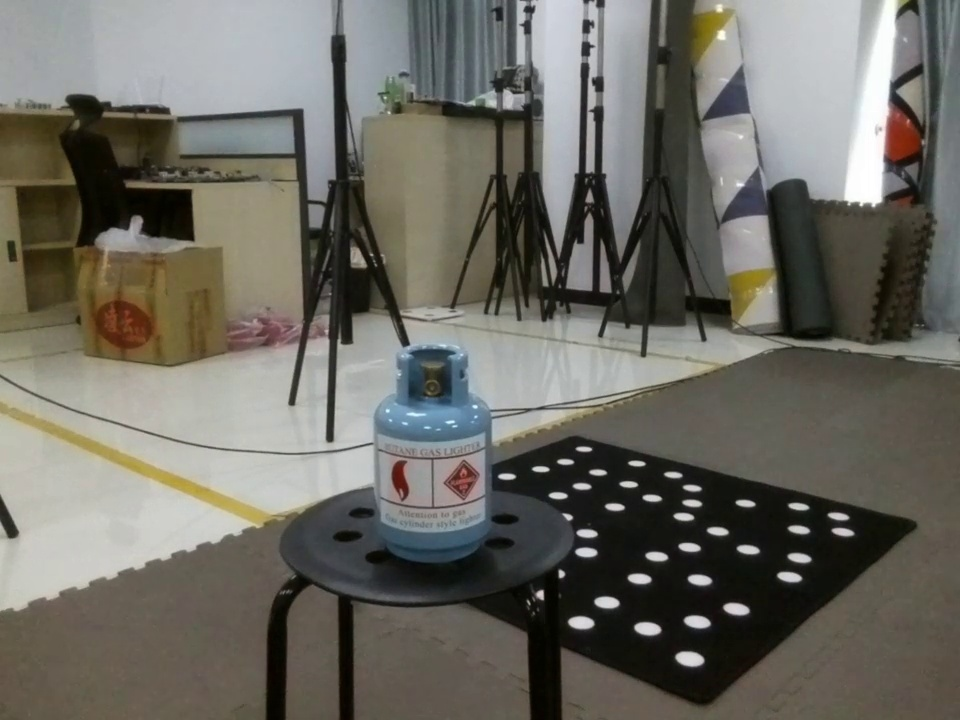gas tank: (348, 339, 525, 570)
